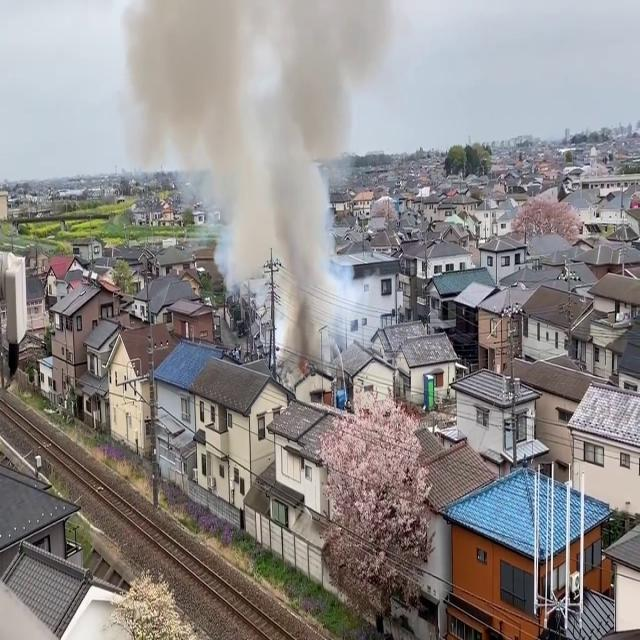Smoke: (141, 0, 358, 366)
